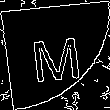M_N: (27, 27, 83, 83)
